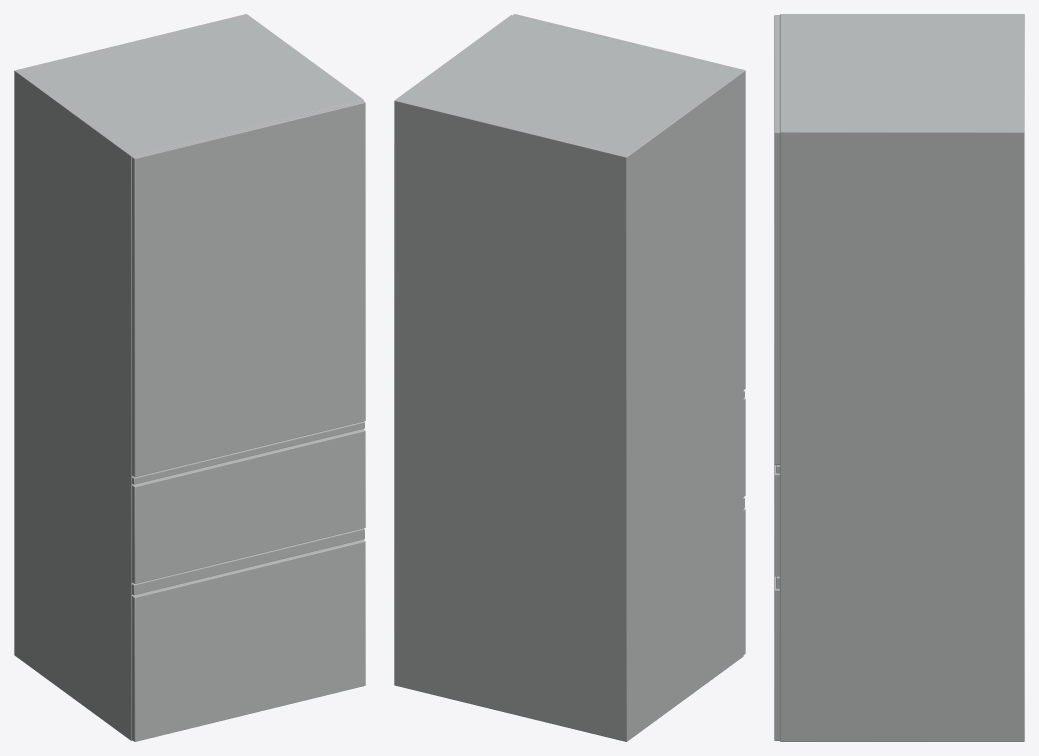
File: Nevera1.glb
The picture shows the model from 3 angles, left to right: view 1: azimuth 30°, elevation 25°; view 2: azimuth 150°, elevation 25°; view 3: azimuth 270°, elevation 25°; orthographic projection. The views are drawn at different scales.
Parts seen in each view (by area): view 1: Nevera1; view 2: Nevera1; view 3: Nevera1.
Part boxes in pixels (x1,y1,x2,y2): Nevera1: (14,14,365,741); Nevera1: (394,14,745,741); Nevera1: (774,14,1024,741).
Bounding box in the file's own units: 68.1 × 164 × 60.8.
1 material, 1 textured.
